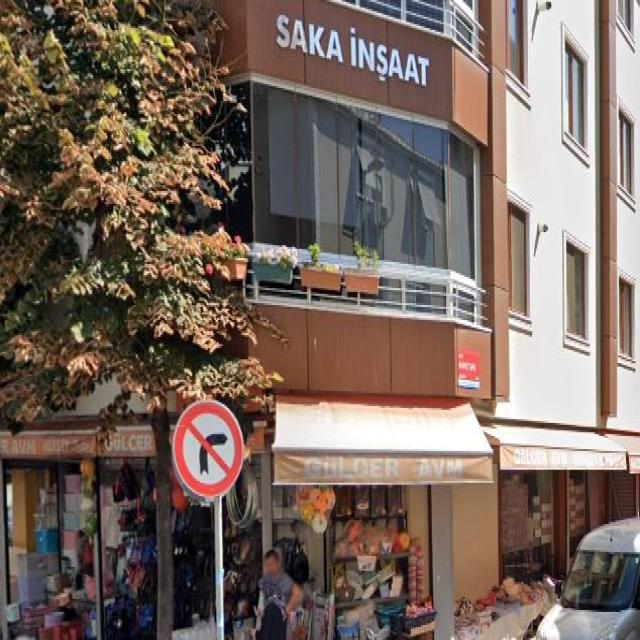sagadonulmez: (173, 400, 243, 498)
